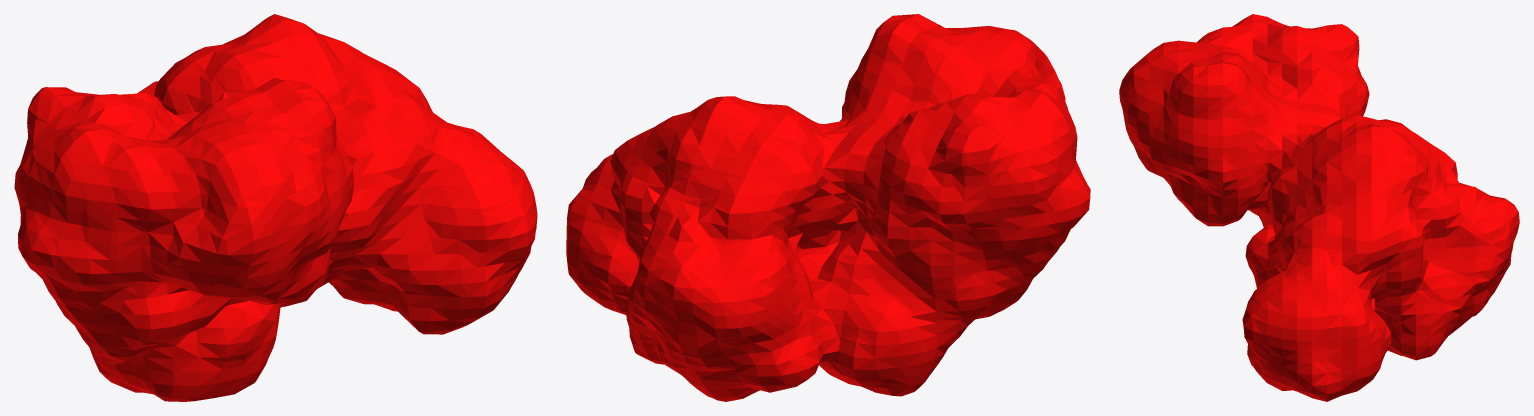
File: murE_coarse.dae
3 renders of one model, left to right at view 1: azimuth 30°, elevation 25°; view 2: azimuth 150°, elevation 25°; view 3: azimuth 270°, elevation 25°, orthographic. The views are drawn at different scales.
Parts seen in each view (by area): view 1: murE; view 2: murE; view 3: murE.
Part boxes in pixels (bbox=[...]): murE: bbox=[14, 14, 537, 401]; murE: bbox=[566, 14, 1090, 401]; murE: bbox=[1119, 14, 1519, 401].
Size of the model in its own units: 112 by 70.42 by 96.29.
